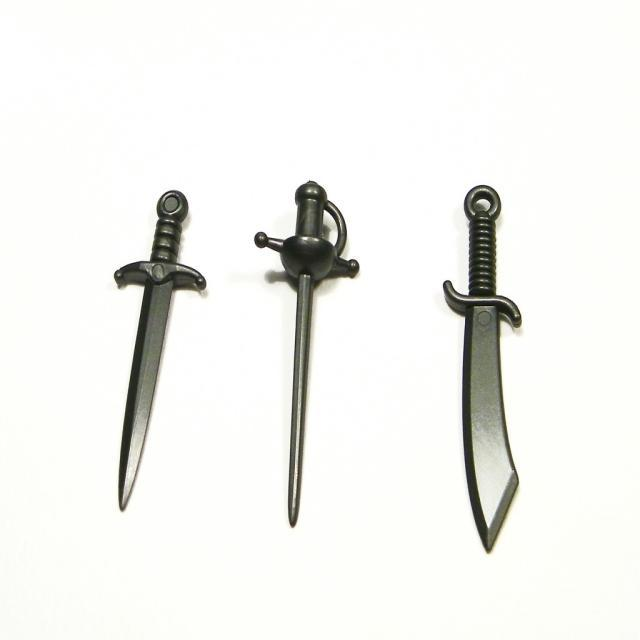Knife: (255, 181, 359, 526), (115, 191, 206, 509), (444, 185, 521, 551)
